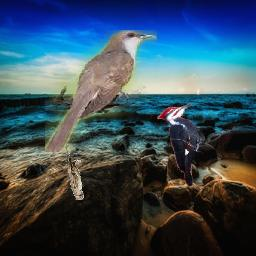Cuckoo: (45, 30, 157, 152)
Sparrow: (66, 144, 85, 201)
Woodpecker: (157, 104, 205, 187)
